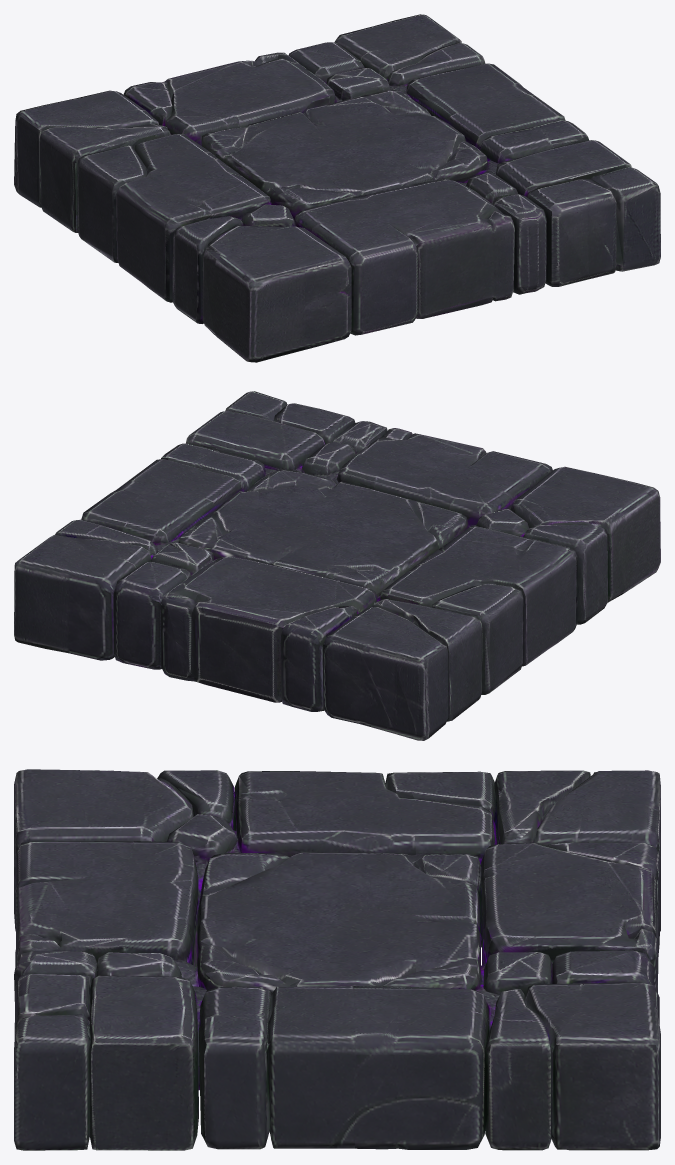
The model's file is floor_tile_trap_match_1x1.glb.
3 views of the same model, one above another, from view 1: azimuth 30°, elevation 25°; view 2: azimuth 150°, elevation 25°; view 3: azimuth 270°, elevation 25° (orthographic). The views are drawn at different scales.
Size of the model in its own units: 1 by 0.2002 by 1.
1 material, 1 textured.
